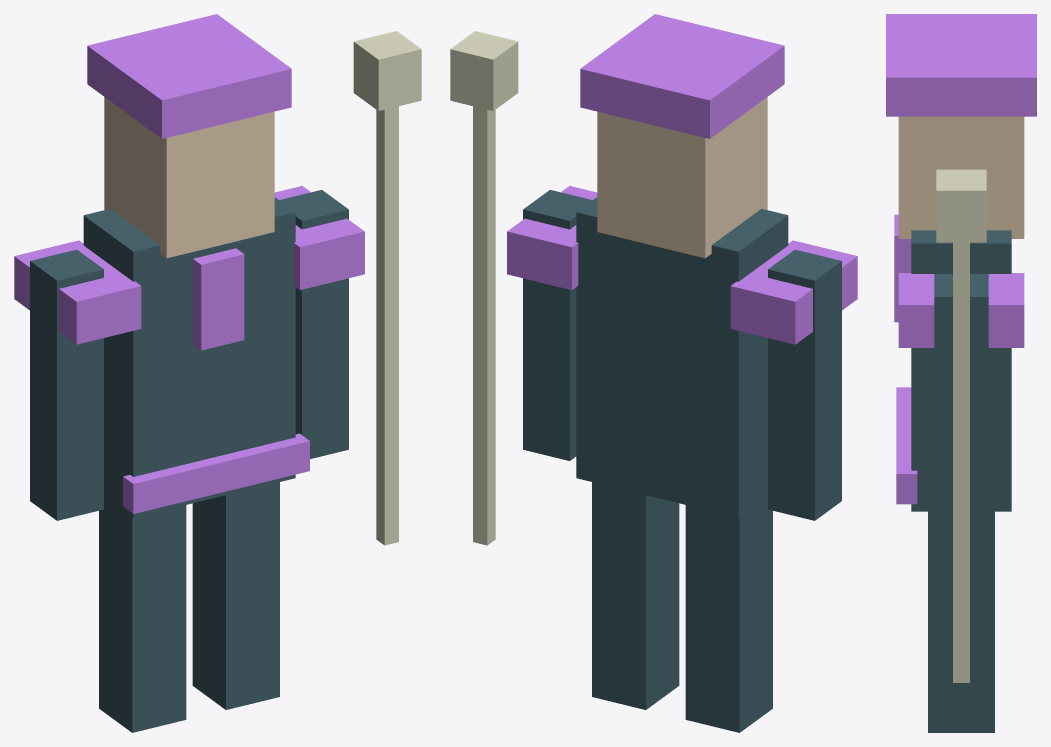
Rendered from 17_vexa_runeclasp_diver_near.glb.
3 renders of one model, left to right at view 1: azimuth 30°, elevation 25°; view 2: azimuth 150°, elevation 25°; view 3: azimuth 270°, elevation 25°, orthographic.
Visible parts, largest first — view 1: Vexa Runeclasp, Diver near; view 2: Vexa Runeclasp, Diver near; view 3: Vexa Runeclasp, Diver near.
Boxes of the visible parts, x1=… form: Vexa Runeclasp, Diver near: x1=14, y1=14, x2=421, y2=732; Vexa Runeclasp, Diver near: x1=450, y1=14, x2=857, y2=732; Vexa Runeclasp, Diver near: x1=886, y1=14, x2=1036, y2=732.
Bounding box in the file's own units: 1.01 × 1.71 × 0.3598.
